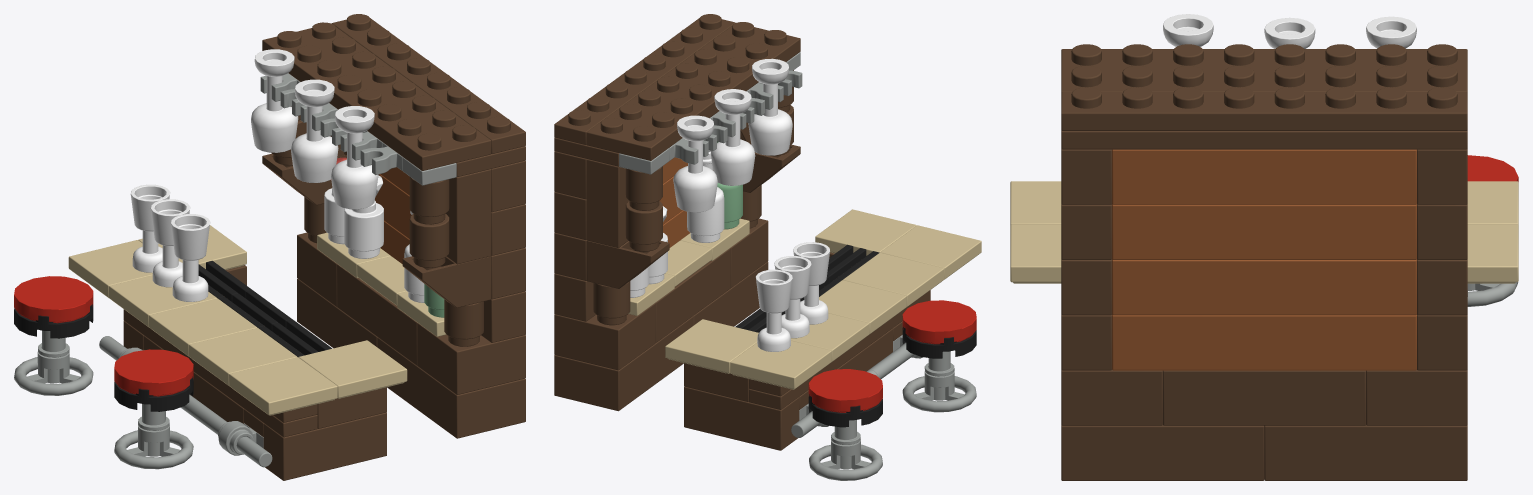
File: bar.fbx
3 renders of one model, left to right at view 1: azimuth 30°, elevation 25°; view 2: azimuth 150°, elevation 25°; view 3: azimuth 270°, elevation 25°, orthographic. The views are drawn at different scales.
Parts seen in each view (by area): view 1: 00078_3034.dat, 00079_3460.dat, 00003_3001.dat, 00001_3622.dat, 00009_3003.dat, 00045_3068b.dat, 00057_3308.dat, 00049_3068b.dat, 00010_3001.dat, 00047_3068b.dat, 00046_3068b.dat, 00083_33061.dat (+48 smaller); view 2: 00078_3034.dat, 00079_3460.dat, 00006_3001.dat, 00007_3622.dat, 00011_3003.dat, 00057_3308.dat, 00050_3068b.dat, 00051_3068b.dat, 00010_3001.dat, 00045_3068b.dat, 00046_3068b.dat, 00083_33061.dat (+48 smaller); view 3: 00078_3034.dat, 00014_3009.dat, 00015_3009.dat, 00031_3009.dat, 00032_3009.dat, 00079_3460.dat, 00006_3001.dat, 00003_3001.dat, 00010_3001.dat, 00067_3034.dat, 00009_3003.dat, 00011_3003.dat (+17 smaller).
Part boxes in pixels (box(x1,y1,x2,y2)): 00078_3034.dat: box(262, 22, 491, 170); 00079_3460.dat: box(332, 14, 525, 153); 00003_3001.dat: box(377, 337, 525, 438); 00001_3622.dat: box(263, 412, 386, 480); 00009_3003.dat: box(417, 323, 525, 394); 00045_3068b.dat: box(229, 357, 337, 415); 00057_3308.dat: box(330, 135, 491, 264); 00049_3068b.dat: box(298, 340, 407, 398); 00010_3001.dat: box(337, 264, 417, 365); 00047_3068b.dat: box(149, 298, 257, 356); 00046_3068b.dat: box(189, 328, 297, 385); 00083_33061.dat: box(251, 49, 298, 152); 00078_3034.dat: box(586, 22, 800, 160); 00079_3460.dat: box(554, 14, 735, 144); 00006_3001.dat: box(554, 316, 693, 411); 00007_3622.dat: box(684, 386, 799, 450); 00011_3003.dat: box(554, 303, 655, 370); 00057_3308.dat: box(586, 122, 751, 247); 00050_3068b.dat: box(730, 340, 831, 389); 00051_3068b.dat: box(665, 319, 758, 373); 00010_3001.dat: box(655, 248, 730, 342); 00045_3068b.dat: box(880, 225, 981, 279); 00046_3068b.dat: box(843, 252, 944, 306); 00083_33061.dat: box(673, 115, 717, 212); 00078_3034.dat: box(1061, 44, 1467, 92); 00014_3009.dat: box(1112, 314, 1416, 370); 00015_3009.dat: box(1112, 259, 1416, 315); 00031_3009.dat: box(1112, 204, 1416, 259); 00032_3009.dat: box(1112, 149, 1416, 204); 00079_3460.dat: box(1061, 87, 1467, 130); 00006_3001.dat: box(1264, 425, 1467, 480); 00003_3001.dat: box(1061, 425, 1264, 480); 00010_3001.dat: box(1163, 370, 1365, 425); 00067_3034.dat: box(1061, 130, 1467, 149); 00009_3003.dat: box(1061, 370, 1162, 425); 00011_3003.dat: box(1366, 370, 1467, 425).
Bounding box in the file's own units: 200 × 166 × 200.
